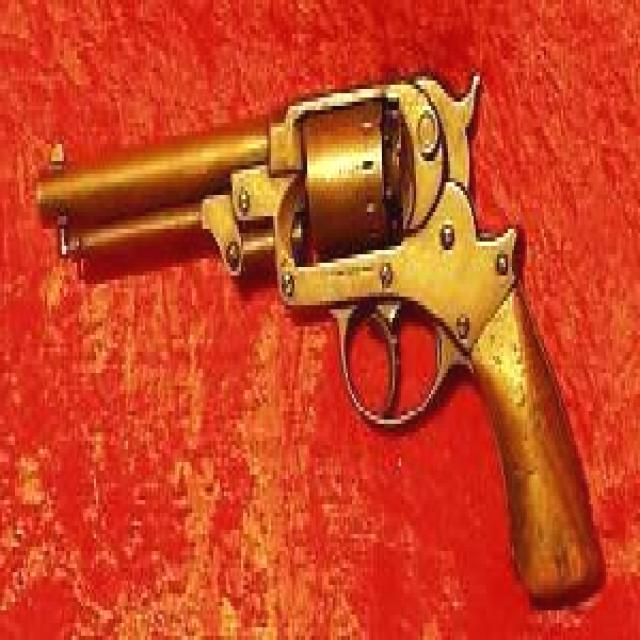pistol: (34, 64, 610, 606)
